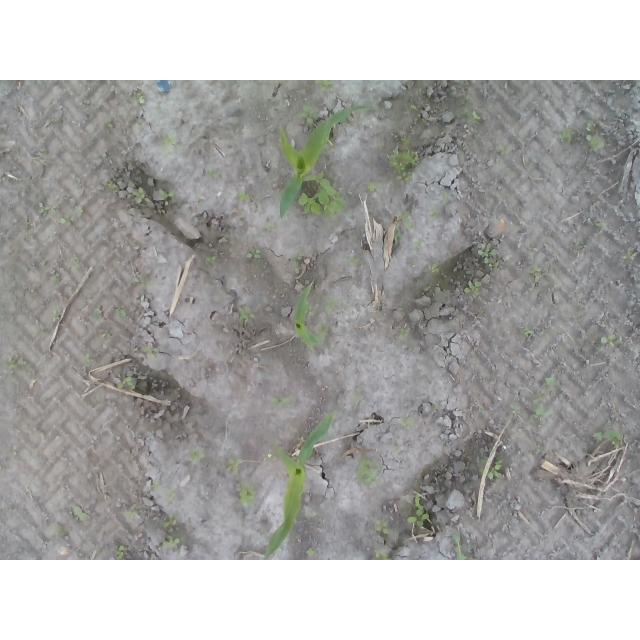Maize: (261, 412, 339, 561), (277, 109, 351, 220), (294, 287, 323, 350)
Weeds: (298, 170, 346, 220), (386, 135, 422, 186), (448, 80, 481, 125), (592, 420, 624, 449), (356, 455, 383, 489), (584, 120, 609, 154), (473, 240, 498, 273), (406, 494, 430, 527), (528, 392, 552, 421), (479, 455, 505, 479), (451, 533, 474, 560), (297, 104, 320, 129), (160, 131, 185, 153), (239, 481, 257, 507), (238, 304, 256, 329), (131, 186, 152, 206), (374, 517, 391, 540), (271, 393, 296, 408), (71, 503, 90, 522), (350, 385, 366, 407), (398, 210, 414, 231), (291, 249, 305, 273), (160, 535, 184, 549), (399, 416, 418, 433), (464, 278, 481, 297), (117, 375, 136, 391), (245, 248, 264, 264), (600, 334, 625, 346), (4, 359, 31, 370), (80, 352, 97, 369), (528, 262, 542, 282), (159, 190, 176, 206), (224, 458, 241, 474), (103, 179, 121, 194), (543, 374, 559, 390), (427, 207, 441, 225), (190, 448, 206, 463), (623, 248, 637, 265), (559, 128, 573, 145), (113, 544, 127, 561), (133, 89, 145, 108), (115, 304, 129, 320), (144, 346, 160, 360), (324, 298, 337, 315), (374, 549, 394, 560), (519, 326, 539, 337), (510, 399, 522, 417), (163, 514, 177, 529), (317, 81, 336, 92), (592, 218, 609, 230), (57, 215, 75, 226), (394, 224, 405, 241), (261, 223, 278, 234), (349, 255, 363, 268), (352, 105, 371, 114), (71, 256, 81, 273), (167, 488, 177, 505), (50, 272, 63, 285), (239, 191, 253, 203), (318, 323, 330, 337), (440, 191, 449, 209), (208, 168, 224, 178), (366, 183, 379, 194), (151, 481, 162, 494), (47, 311, 61, 321), (98, 328, 112, 338), (426, 263, 440, 273), (336, 94, 353, 102), (96, 304, 104, 321), (398, 327, 410, 338), (55, 527, 66, 538), (73, 207, 85, 217), (47, 119, 63, 126), (307, 547, 317, 558), (206, 256, 218, 265), (261, 452, 273, 461), (534, 447, 546, 456), (133, 277, 146, 285), (575, 239, 585, 249), (103, 120, 114, 129), (126, 512, 138, 520), (407, 104, 417, 113), (8, 446, 17, 456), (39, 206, 50, 214), (430, 403, 438, 413), (416, 239, 425, 247)
